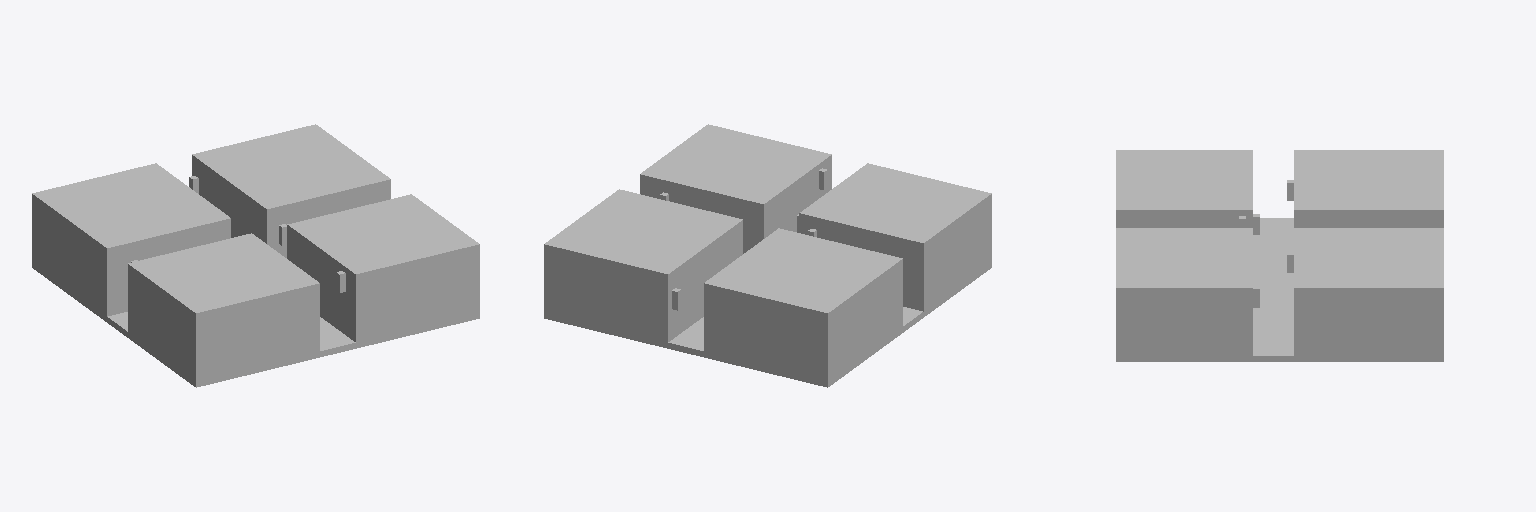
Rendered from 4way room-02.obj.
The picture shows the model from 3 angles: view 1: azimuth 30°, elevation 25°; view 2: azimuth 150°, elevation 25°; view 3: azimuth 270°, elevation 25°; orthographic projection.
Size of the model in its own units: 48 by 12 by 48.